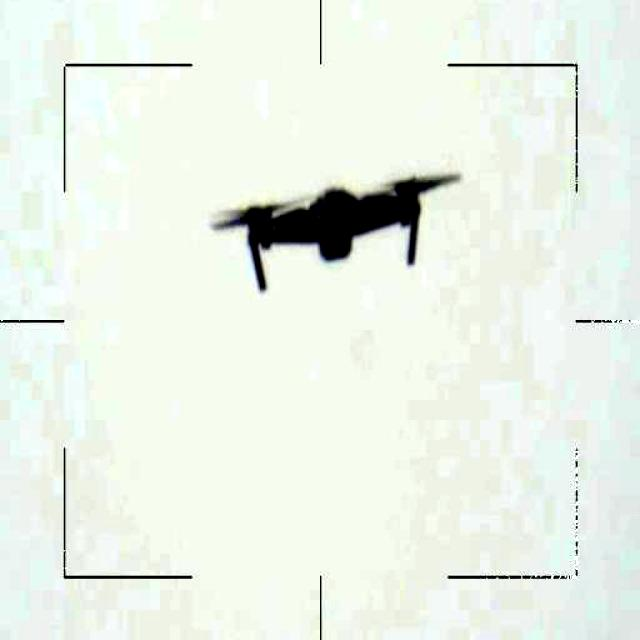bird: (196, 158, 461, 296)
